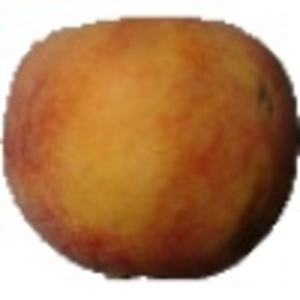pêssego: (1, 4, 300, 284)
